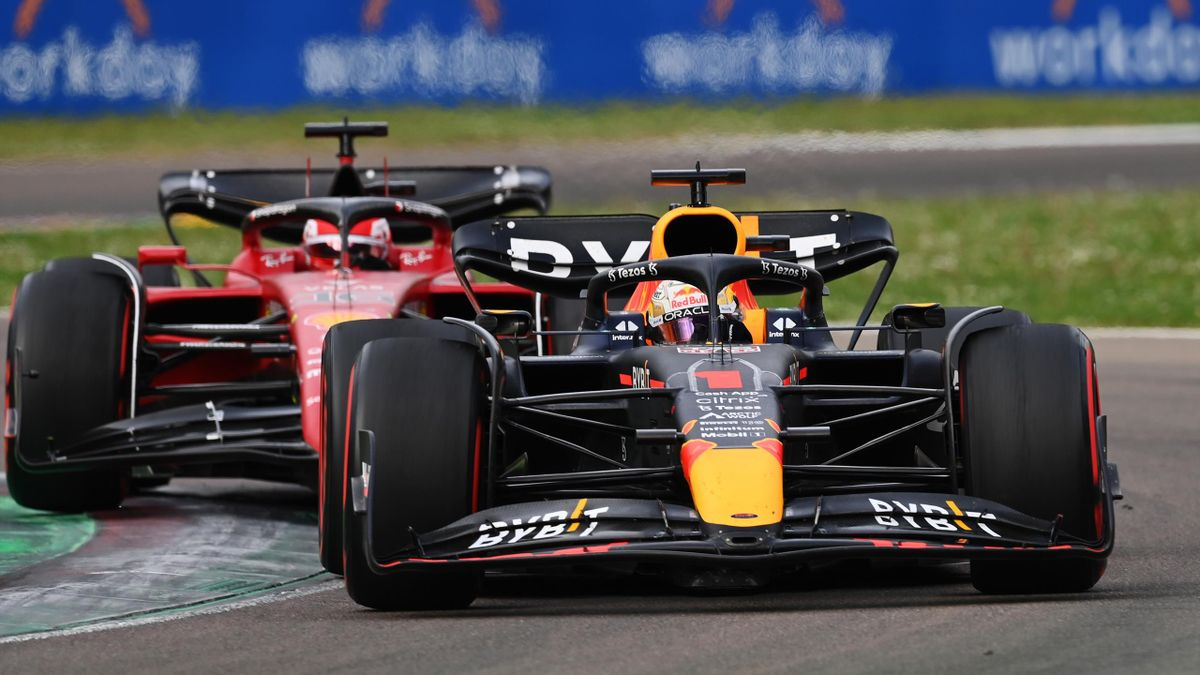Formule 1: (321, 209, 1107, 590), (11, 164, 611, 501)
